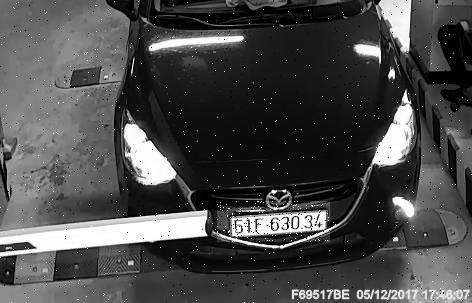License-plate: (218, 202, 331, 243)
